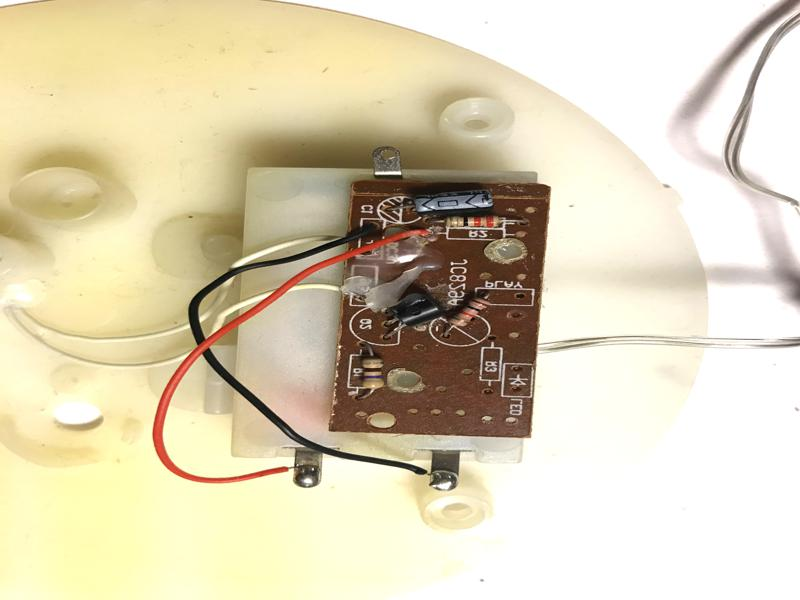Capacitor: (405, 184, 497, 217)
Resistor: (443, 290, 492, 335), (358, 350, 387, 397), (437, 213, 514, 230)
